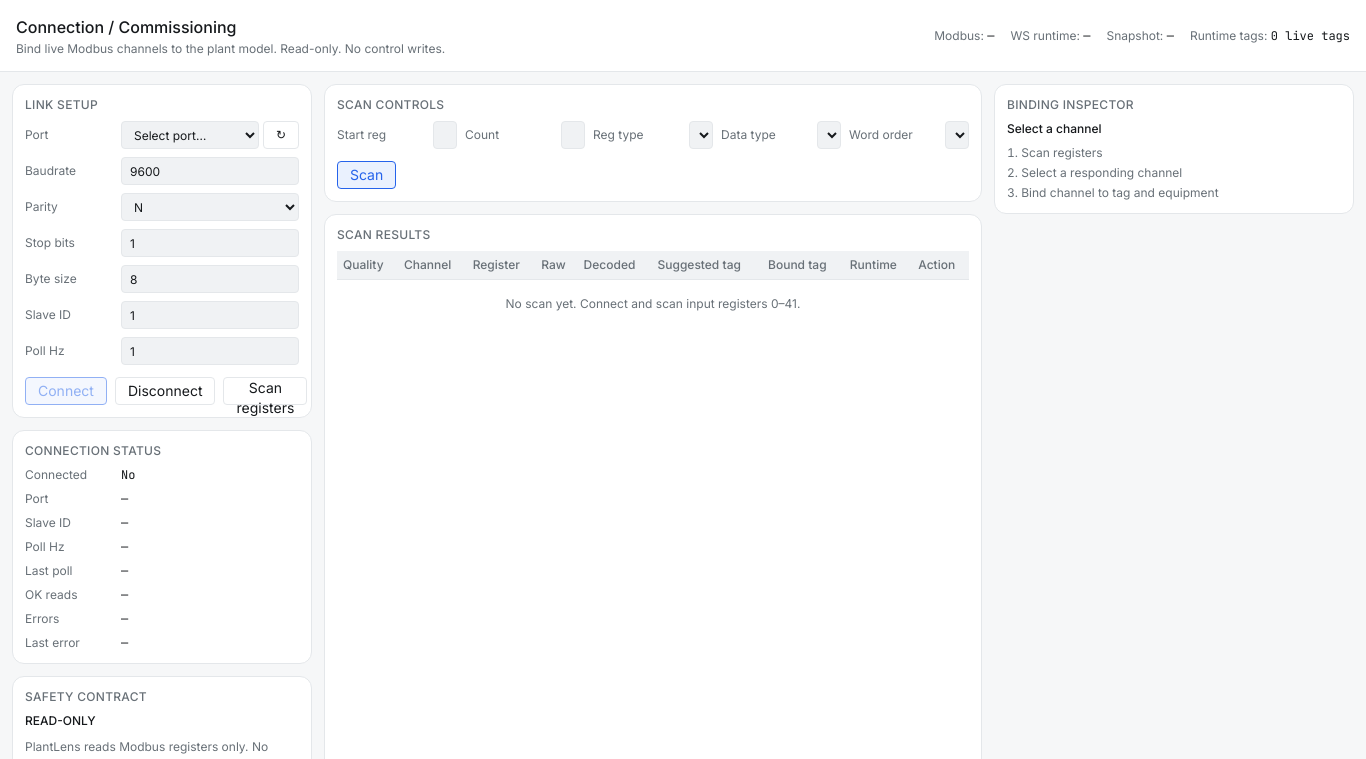
Test: ConnectionScreen › renders canonical scan rows
Expected: the heading "Connection / Commissioning" is shown, [16,16,236,36]
Click the button "Scan": (367, 175) [337,161,396,189]
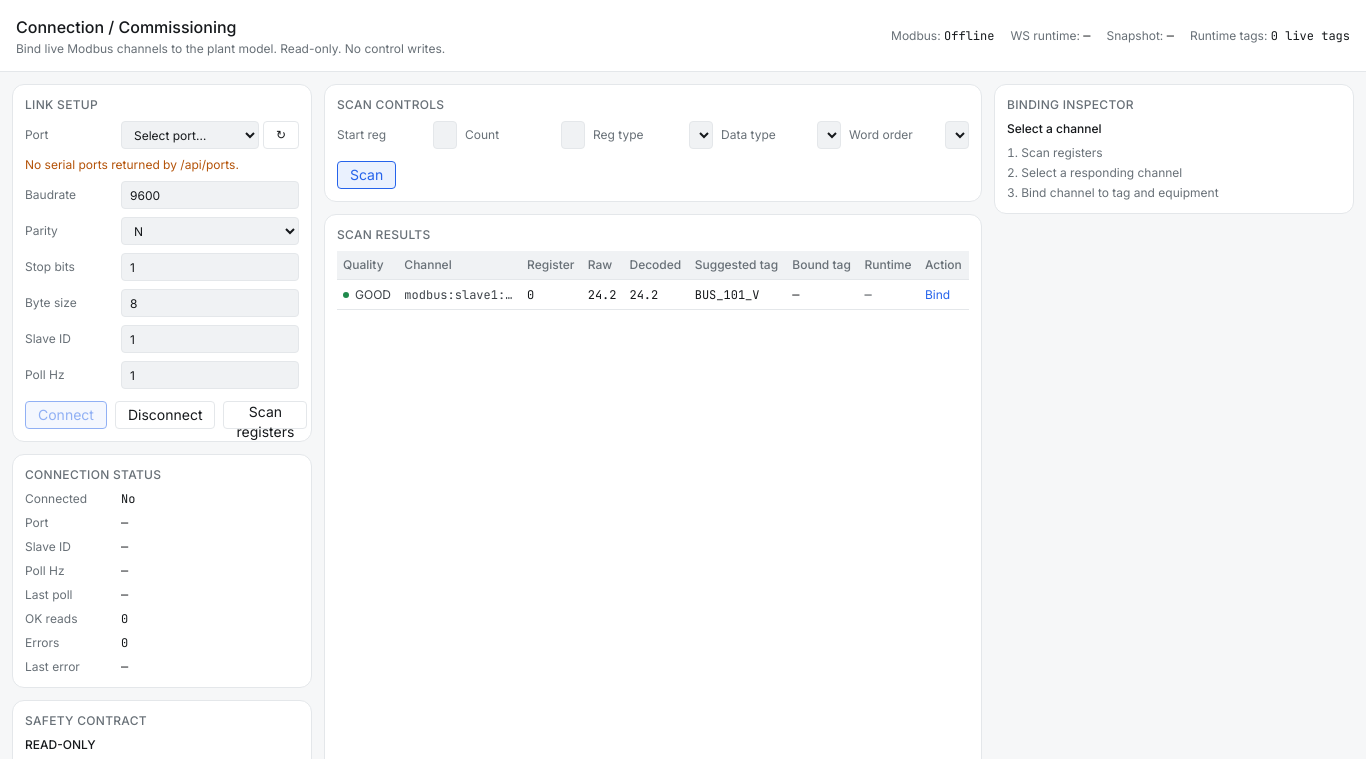
Result: the text "BUS_101_V" is shown at [689,280,786,310]
Result: the 1st text "24.2" is shown at [582,280,624,310]
